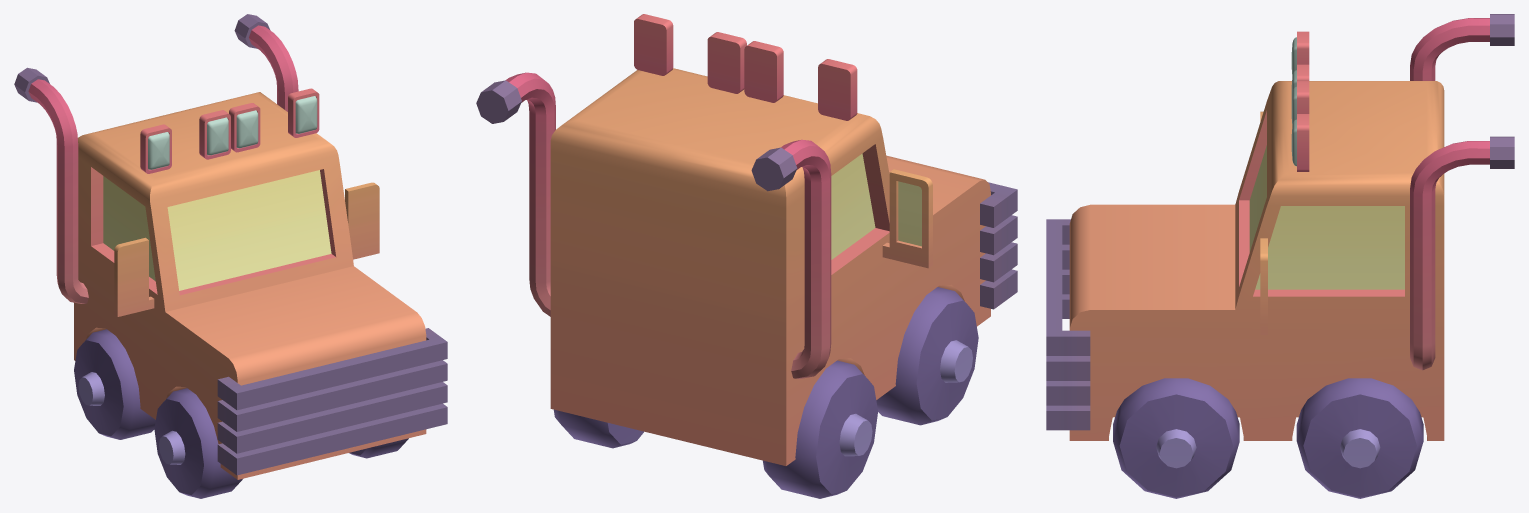
File: train_Body_GEO (1).fbx
The picture shows the model from 3 angles, left to right: view 1: azimuth 30°, elevation 25°; view 2: azimuth 150°, elevation 25°; view 3: azimuth 270°, elevation 25°; orthographic projection. The views are drawn at different scales.
Parts seen in each view (by area): view 1: train_Body_GEO; view 2: train_Body_GEO; view 3: train_Body_GEO.
Part boxes in pixels (box(x1,y1,x2,y2)): train_Body_GEO: box(14, 14, 447, 498); train_Body_GEO: box(476, 14, 1017, 498); train_Body_GEO: box(1046, 14, 1514, 498).
Size of the model in its own units: 422 by 496 by 571.
